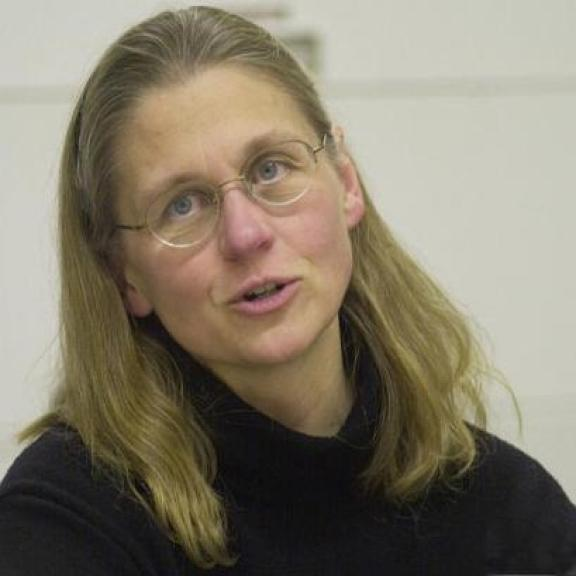face: (99, 75, 373, 376)
